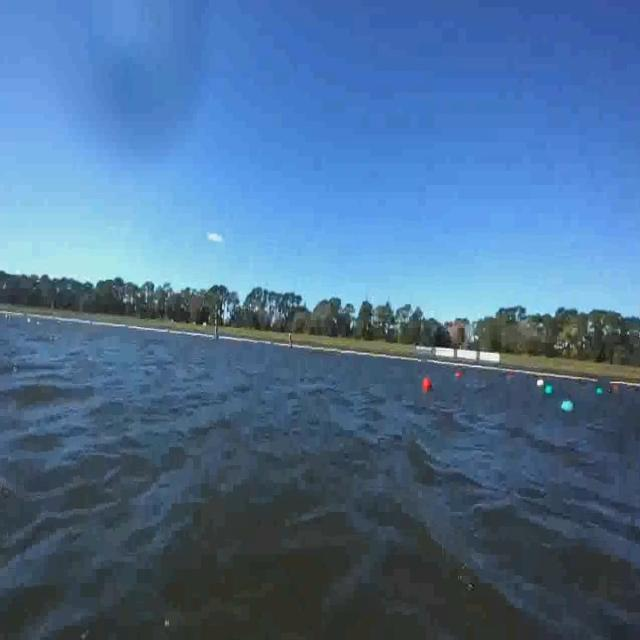green-buoy: (562, 401, 574, 414), (546, 382, 556, 393), (544, 385, 553, 395), (594, 385, 602, 393)
red-buoy: (422, 377, 433, 393), (454, 368, 464, 385)
